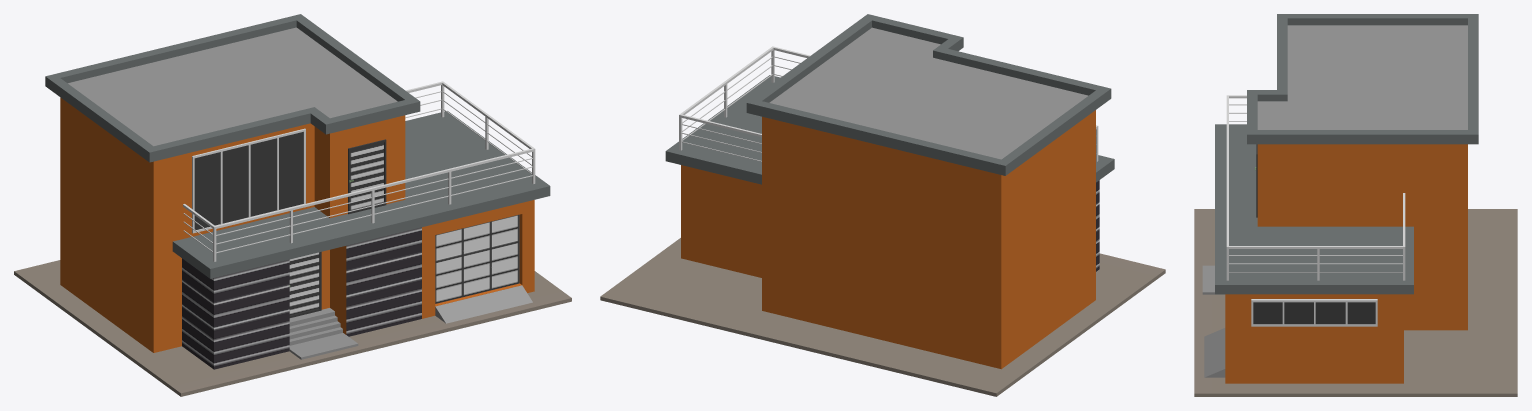
Rendered from Building_House_02_color01.fbx.
The picture shows the model from 3 angles, left to right: view 1: azimuth 30°, elevation 25°; view 2: azimuth 150°, elevation 25°; view 3: azimuth 270°, elevation 25°; orthographic projection. The views are drawn at different scales.
Visible parts, largest first — view 1: Building_House_02_color01; view 2: Building_House_02_color01; view 3: Building_House_02_color01.
Part boxes in pixels (x1,y1,x2,y2): Building_House_02_color01: (14, 14, 571, 396); Building_House_02_color01: (600, 14, 1165, 396); Building_House_02_color01: (1194, 14, 1517, 396).
Bounding box in the file's own units: 1758 × 904 × 1301.
